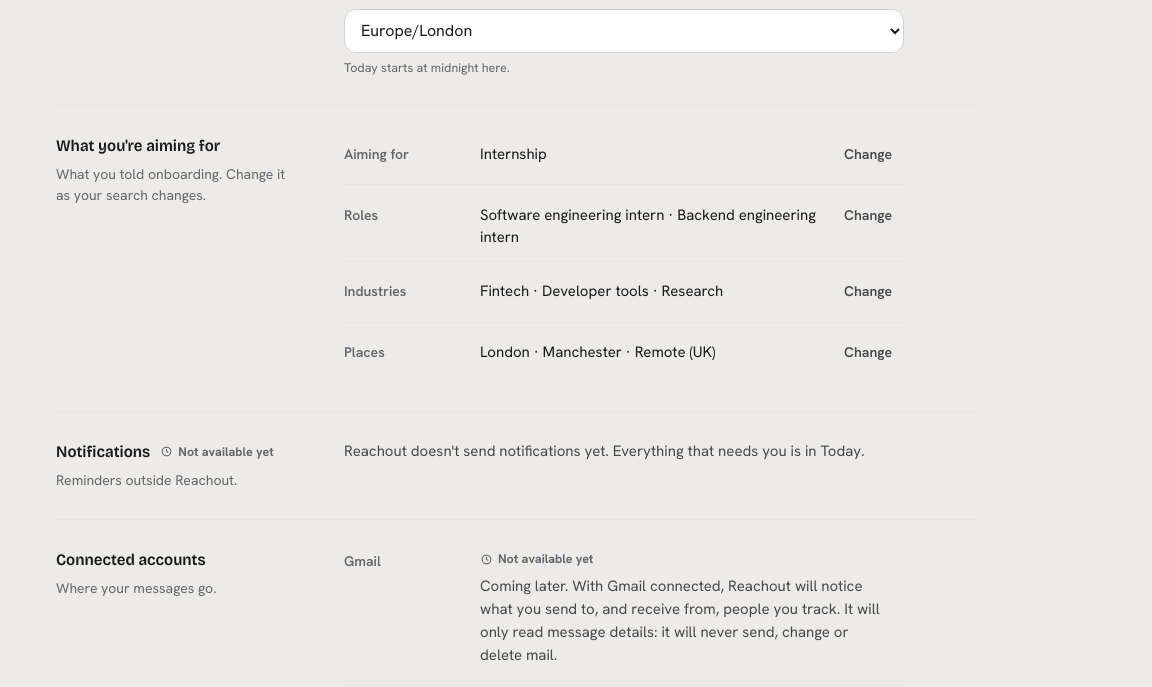
Scenario: production Settings › what you're aiming for, from onboarding, changes in place
The image size is (1152, 687).
(page scrolled)
Check: the text "Internship" is shown, box [480,144,547,164]
Check: the text "London · Manchester · Remote (UK)" is shown, box [480,342,715,362]
Click the button with aria-label "Change places": (868, 353) [832,335,904,371]
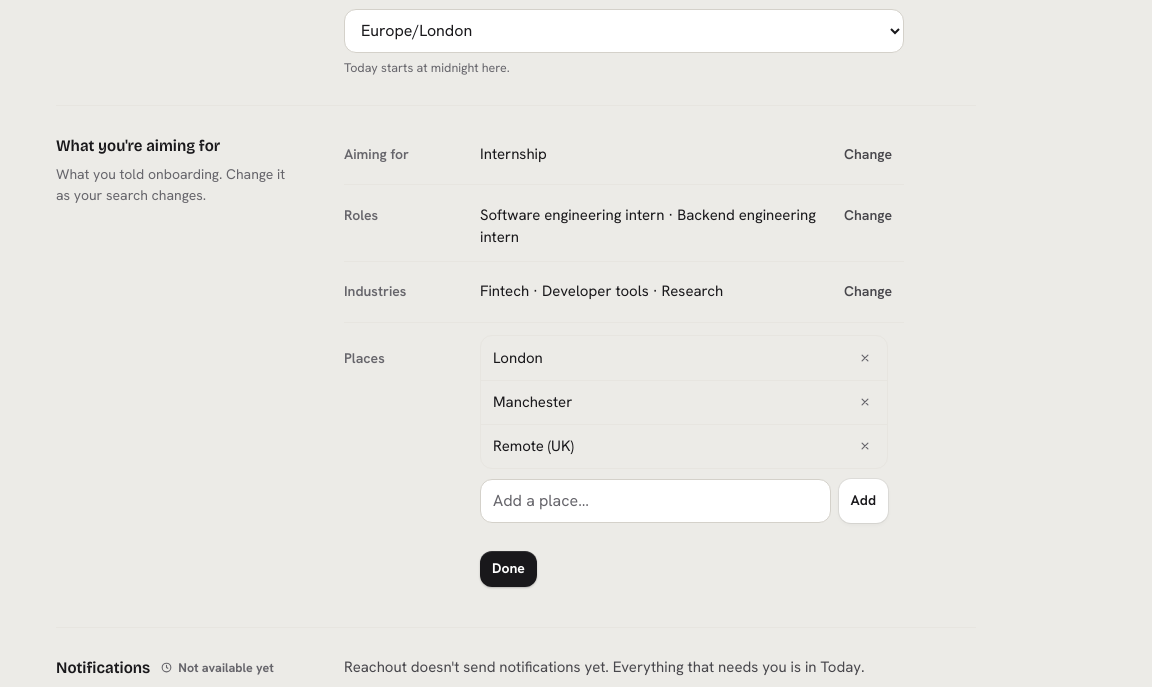
In the field labelled "Add a place": (655, 501) [480,479,831,523], type "Edinburgh"
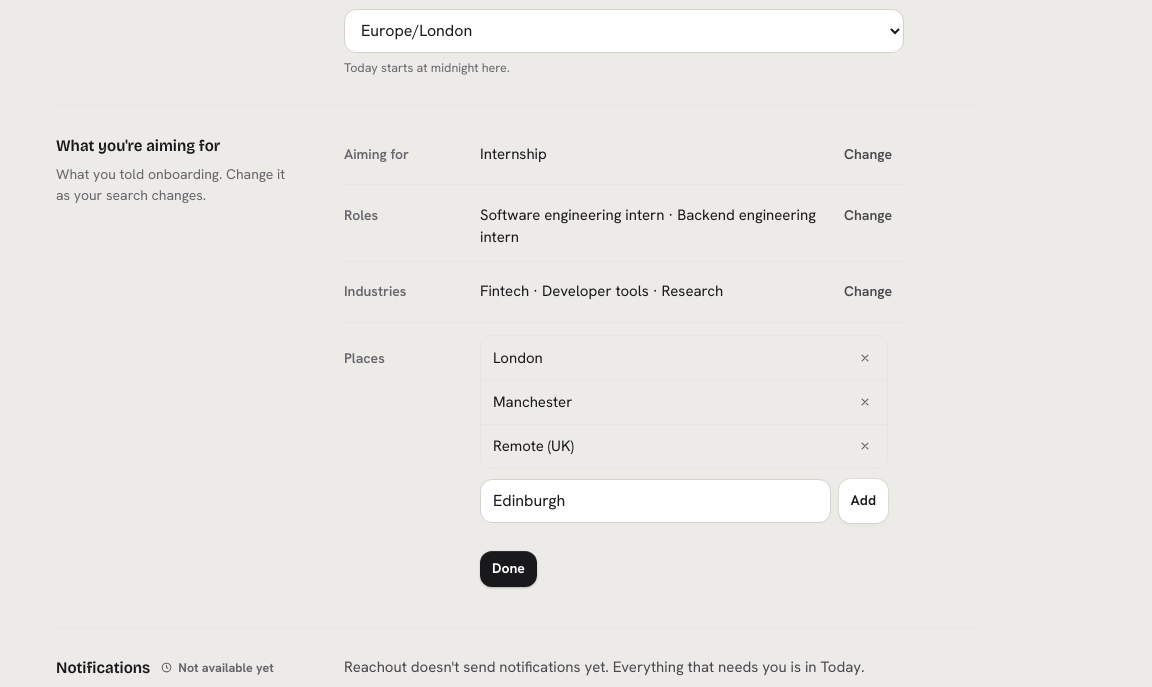
Click the button "Add": (863, 501) [839,479,888,523]
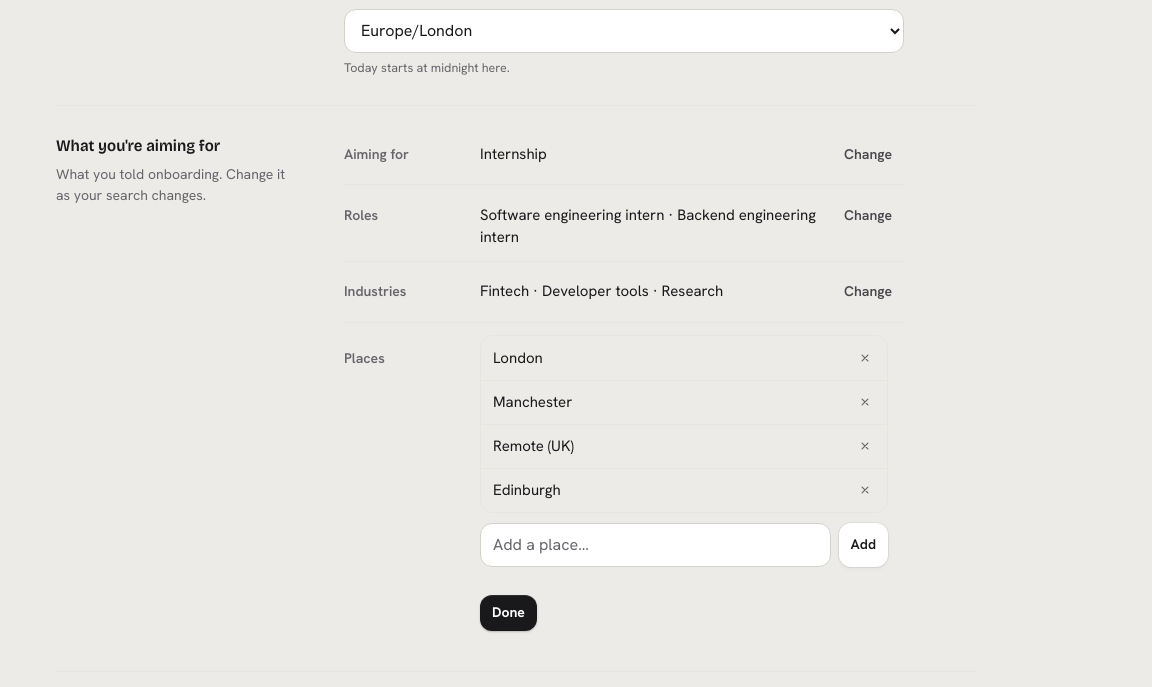
Click the button named "Remove Remote (UK)": (865, 446) [849,430,881,462]
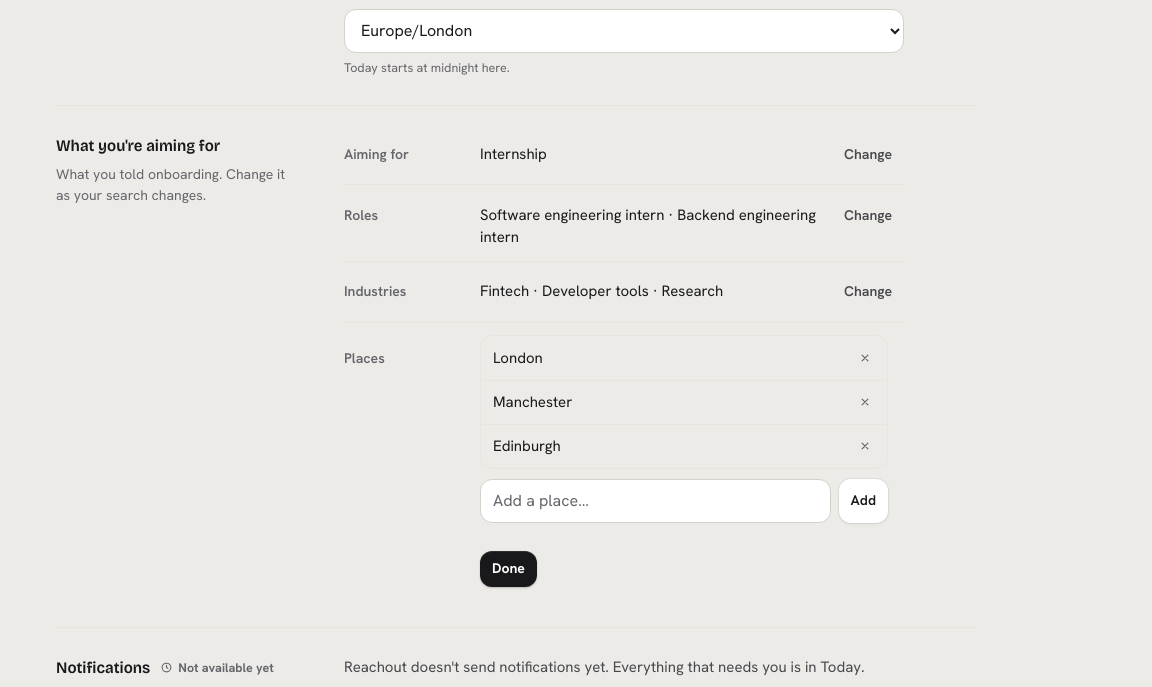
Click the button "Done": (508, 569) [480,551,537,587]
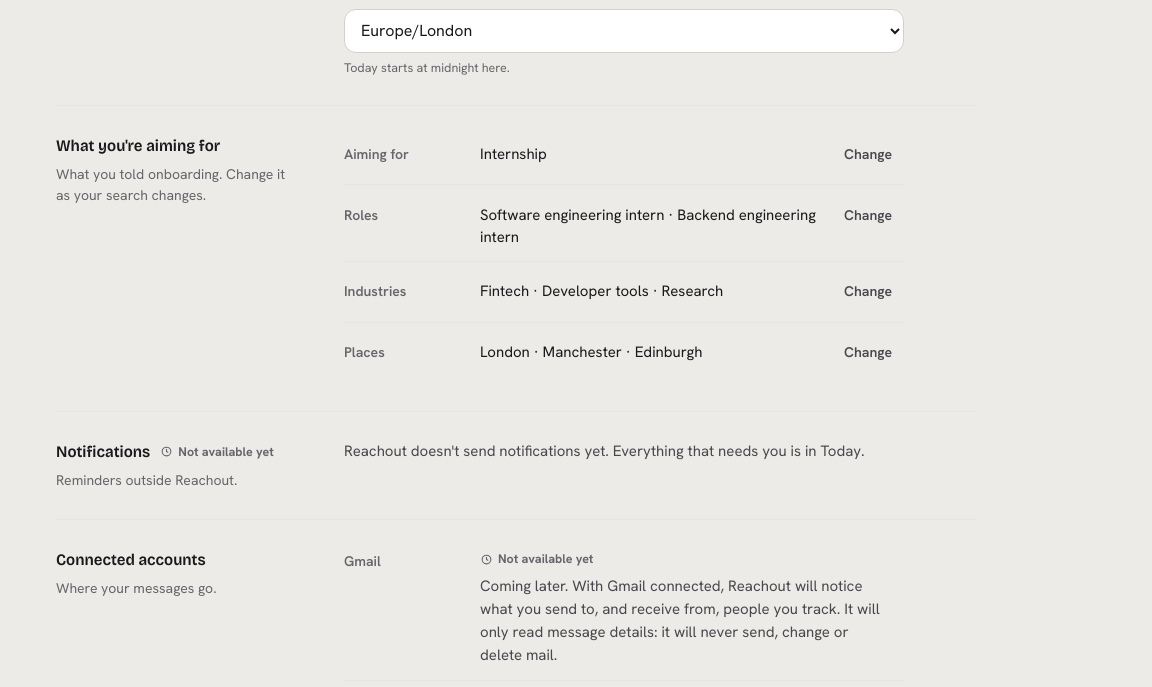
Check: the text "London · Manchester · Edinburgh" is shown, box [480,342,702,362]
